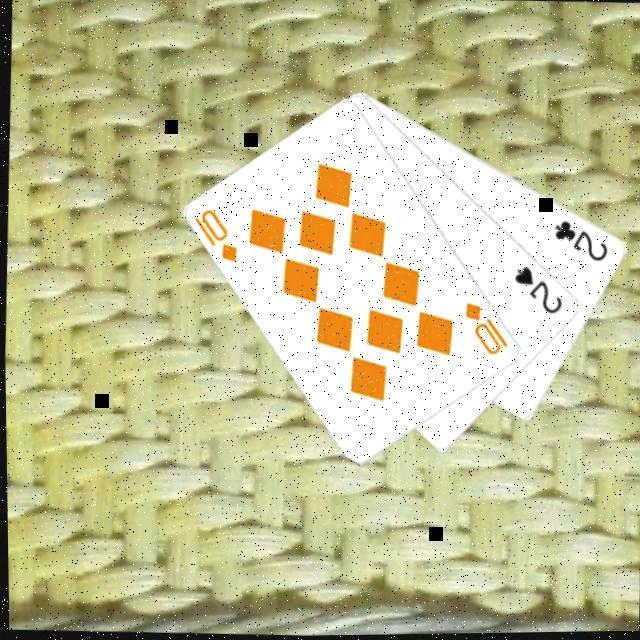10D: (460, 300, 513, 362), (189, 205, 242, 267)
2C: (550, 218, 613, 268)
2S: (510, 263, 568, 320)
